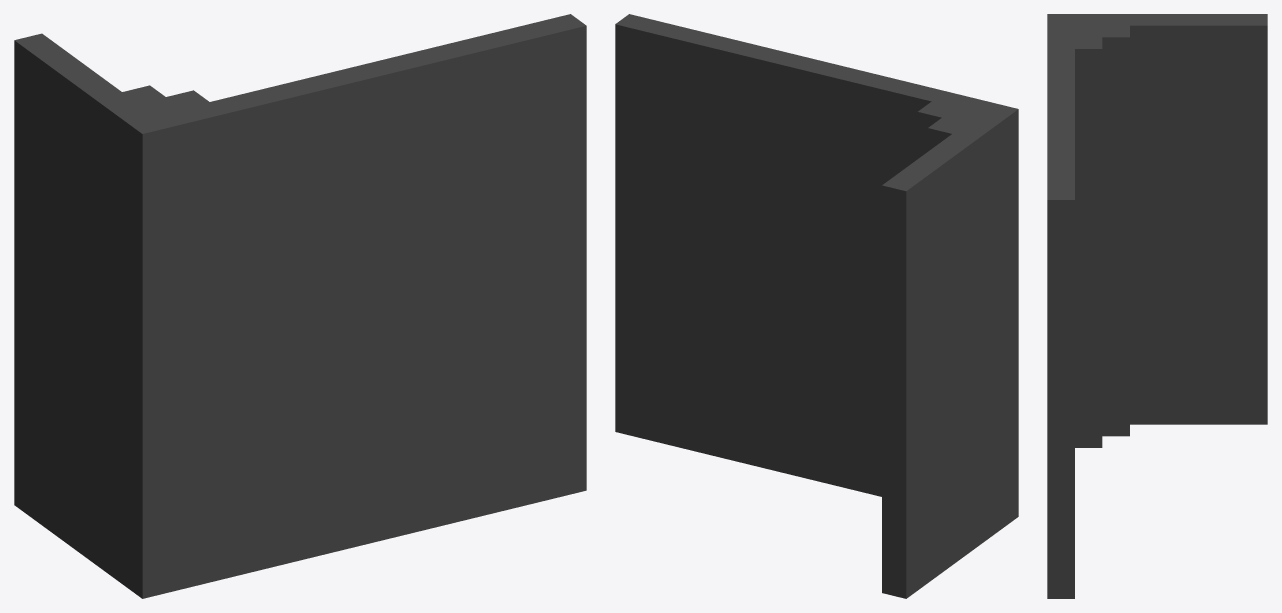
The model's file is lbeam.obj.
The picture shows the model from 3 angles, left to right: view 1: azimuth 30°, elevation 25°; view 2: azimuth 150°, elevation 25°; view 3: azimuth 270°, elevation 25°; orthographic projection. The views are drawn at different scales.
Bounding box in the file's own units: 1.6 × 1.6 × 0.8.
Materials: 1 (1 with a texture image).
